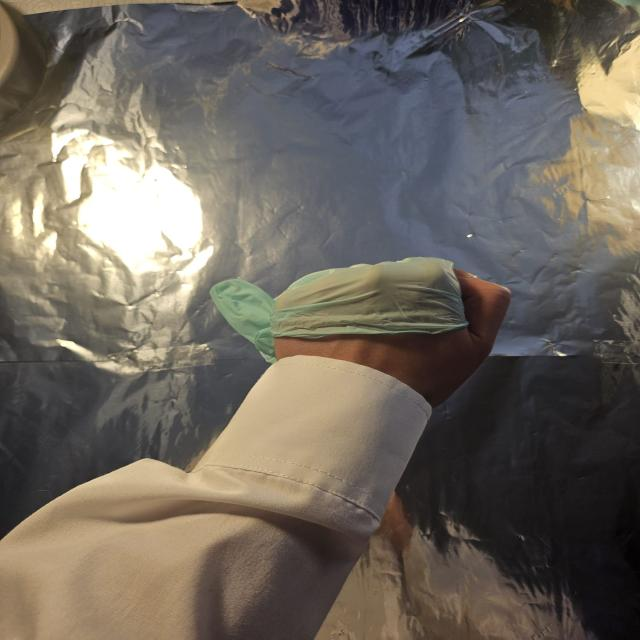glove_partial: (208, 257, 516, 407)
